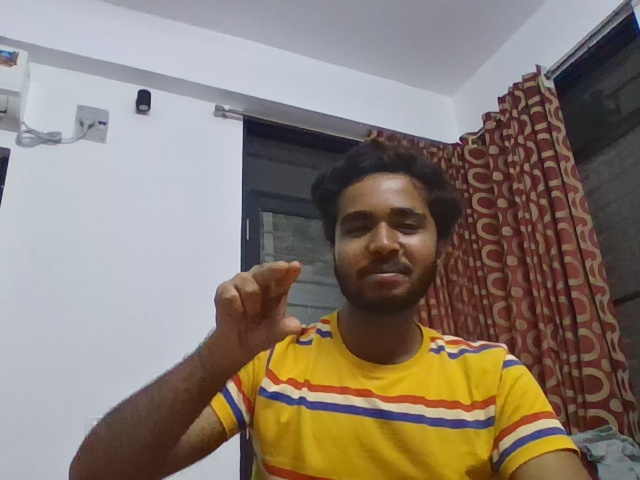No: (191, 249, 320, 368)
